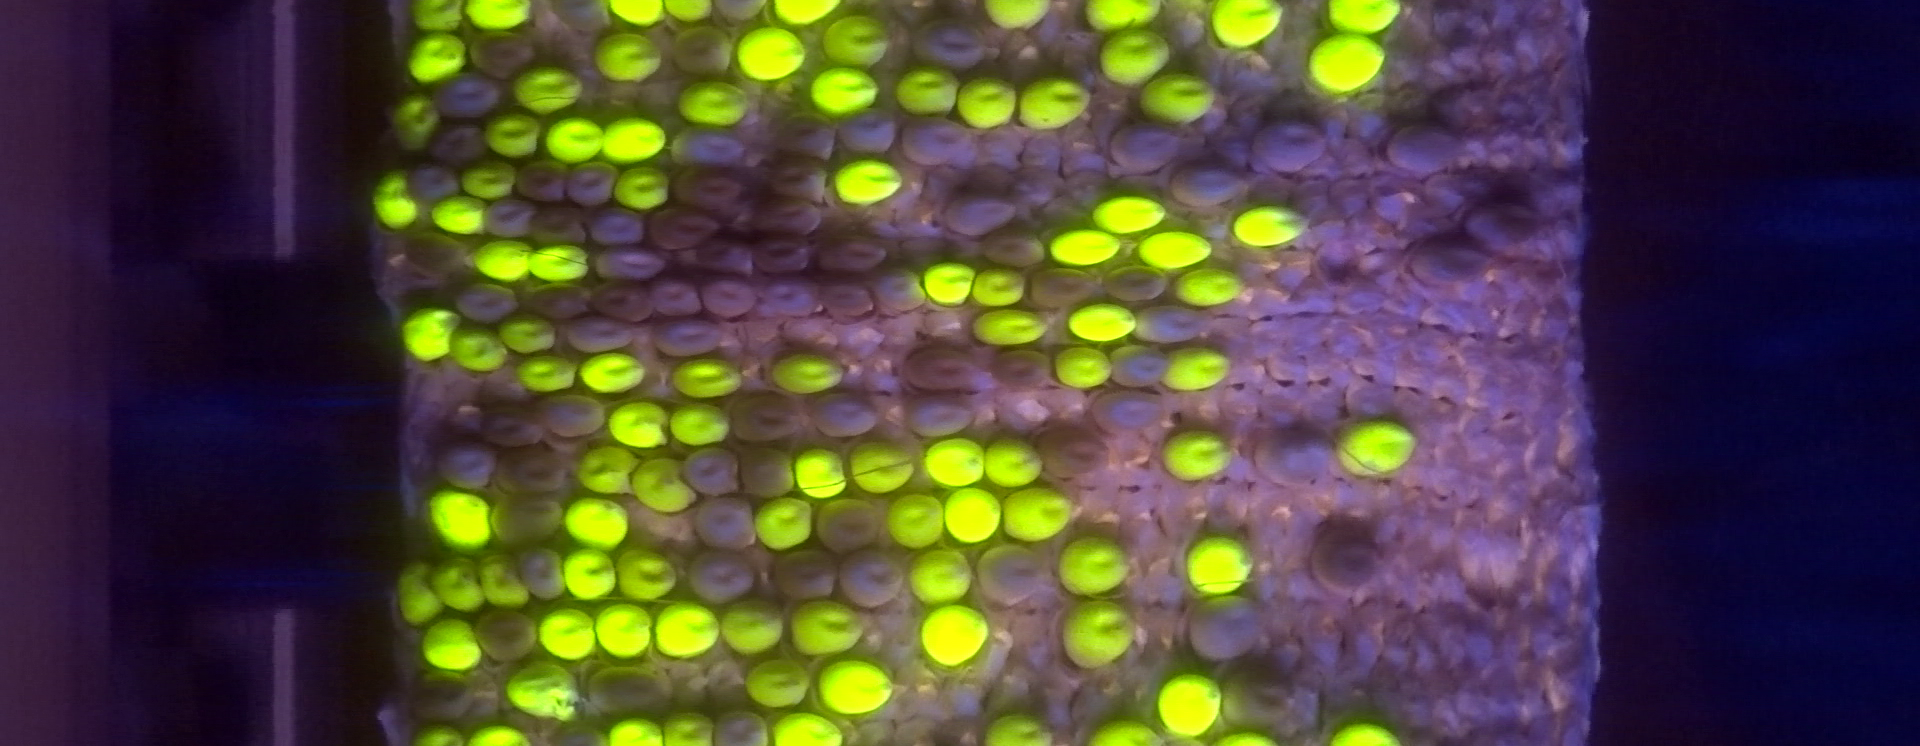fluorescent: (1060, 601, 1135, 668), (1337, 421, 1416, 478), (1305, 36, 1384, 88), (1185, 537, 1254, 594), (1153, 676, 1218, 736), (504, 665, 580, 715), (1059, 540, 1128, 595), (593, 29, 660, 83), (819, 661, 891, 712), (1020, 78, 1089, 130), (1141, 73, 1215, 121), (1100, 32, 1167, 83), (912, 549, 972, 606), (1002, 490, 1069, 540), (924, 608, 984, 664), (427, 491, 489, 546), (672, 81, 744, 127), (792, 608, 862, 655), (1166, 428, 1229, 479), (618, 546, 673, 605), (656, 604, 718, 657), (561, 499, 624, 548), (634, 458, 693, 511), (736, 29, 802, 76), (722, 601, 782, 652), (835, 162, 901, 207), (851, 442, 913, 490), (947, 489, 1000, 544), (890, 492, 940, 551), (1215, 1, 1281, 45), (513, 71, 583, 113), (404, 307, 459, 360), (422, 619, 479, 670), (1229, 208, 1310, 244), (1162, 345, 1226, 390), (757, 495, 811, 546), (408, 34, 467, 81), (609, 401, 669, 446), (397, 559, 438, 624), (1051, 232, 1122, 269), (600, 121, 669, 160), (577, 353, 645, 392), (1139, 232, 1211, 268), (828, 16, 884, 62), (546, 118, 604, 163), (561, 552, 618, 598), (812, 69, 874, 110), (747, 658, 806, 702), (541, 610, 593, 660), (931, 439, 984, 486), (959, 77, 1014, 124), (898, 67, 955, 111), (1177, 267, 1239, 307), (433, 562, 482, 614), (480, 552, 525, 608), (1095, 198, 1164, 234), (599, 606, 650, 654), (793, 451, 847, 496), (672, 358, 736, 396), (1069, 303, 1130, 342), (373, 173, 419, 225), (986, 439, 1040, 483), (396, 94, 440, 146), (672, 404, 729, 443), (616, 169, 673, 207), (779, 355, 842, 390), (972, 312, 1044, 342), (1325, 2, 1400, 31), (1082, 1, 1162, 27), (452, 330, 504, 367), (527, 243, 589, 274), (582, 446, 629, 488), (476, 243, 530, 279), (986, 717, 1056, 745), (489, 116, 539, 154), (503, 310, 549, 352), (1056, 348, 1108, 383), (776, 714, 842, 742), (973, 269, 1021, 307), (983, 2, 1048, 29), (464, 160, 517, 194), (1089, 722, 1167, 744), (1330, 722, 1403, 745), (467, 1, 533, 27), (433, 198, 485, 232), (518, 360, 573, 390), (924, 265, 970, 300), (606, 1, 665, 28), (665, 710, 711, 744), (415, 1, 464, 32), (773, 2, 839, 24), (605, 720, 662, 744), (470, 725, 531, 744), (416, 726, 464, 744), (666, 2, 711, 20), (1212, 733, 1281, 744)
nonfluorescent: (1184, 590, 1272, 666), (1259, 424, 1336, 489), (585, 663, 667, 722), (1224, 661, 1291, 734), (684, 544, 769, 600), (912, 13, 989, 69), (1310, 526, 1374, 592), (986, 544, 1051, 608), (1384, 120, 1461, 173), (898, 342, 975, 394), (407, 668, 480, 723), (1042, 425, 1109, 485), (1254, 118, 1326, 173), (774, 548, 841, 606), (813, 495, 887, 548), (1469, 198, 1540, 251), (838, 552, 909, 605), (669, 23, 737, 77), (730, 396, 803, 446), (901, 116, 971, 169), (693, 492, 753, 554), (498, 486, 560, 545), (468, 29, 538, 81), (1403, 241, 1489, 283), (1104, 122, 1183, 168), (1131, 299, 1209, 344), (803, 396, 880, 441), (542, 388, 609, 441), (500, 443, 572, 491), (670, 127, 743, 171), (945, 194, 1025, 234), (895, 398, 983, 434), (1172, 164, 1244, 206), (738, 445, 793, 499), (480, 401, 545, 446), (771, 113, 834, 159), (479, 612, 538, 661), (457, 282, 525, 323), (655, 320, 724, 361), (874, 263, 931, 314), (767, 160, 830, 205), (700, 274, 764, 318), (431, 441, 491, 488), (580, 203, 640, 247), (410, 230, 470, 274), (998, 343, 1047, 397), (764, 273, 822, 318), (824, 230, 887, 272), (686, 446, 740, 494), (1096, 388, 1166, 425), (840, 110, 896, 154), (677, 174, 742, 212), (436, 76, 497, 115), (1104, 344, 1162, 386), (1031, 265, 1098, 300), (591, 284, 659, 320), (716, 706, 774, 746), (651, 216, 713, 254), (1098, 267, 1167, 300), (527, 285, 595, 318), (981, 228, 1043, 263), (564, 318, 637, 349), (516, 162, 572, 201), (651, 276, 700, 320), (754, 201, 824, 230), (432, 124, 487, 160), (531, 205, 582, 244), (756, 235, 812, 269), (825, 281, 876, 318), (602, 252, 664, 282), (566, 163, 612, 201), (485, 198, 530, 235), (700, 235, 756, 263), (414, 162, 456, 197)
